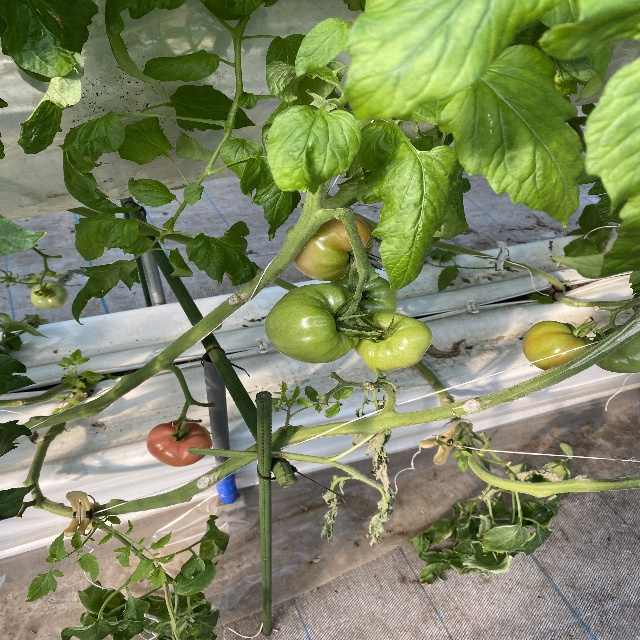b_fully_ripened: (146, 419, 214, 467)
b_green: (264, 283, 362, 364), (353, 311, 433, 372), (330, 274, 398, 322), (593, 325, 640, 374), (30, 279, 68, 310)
b_half_ripened: (293, 214, 373, 281), (522, 321, 597, 371)
